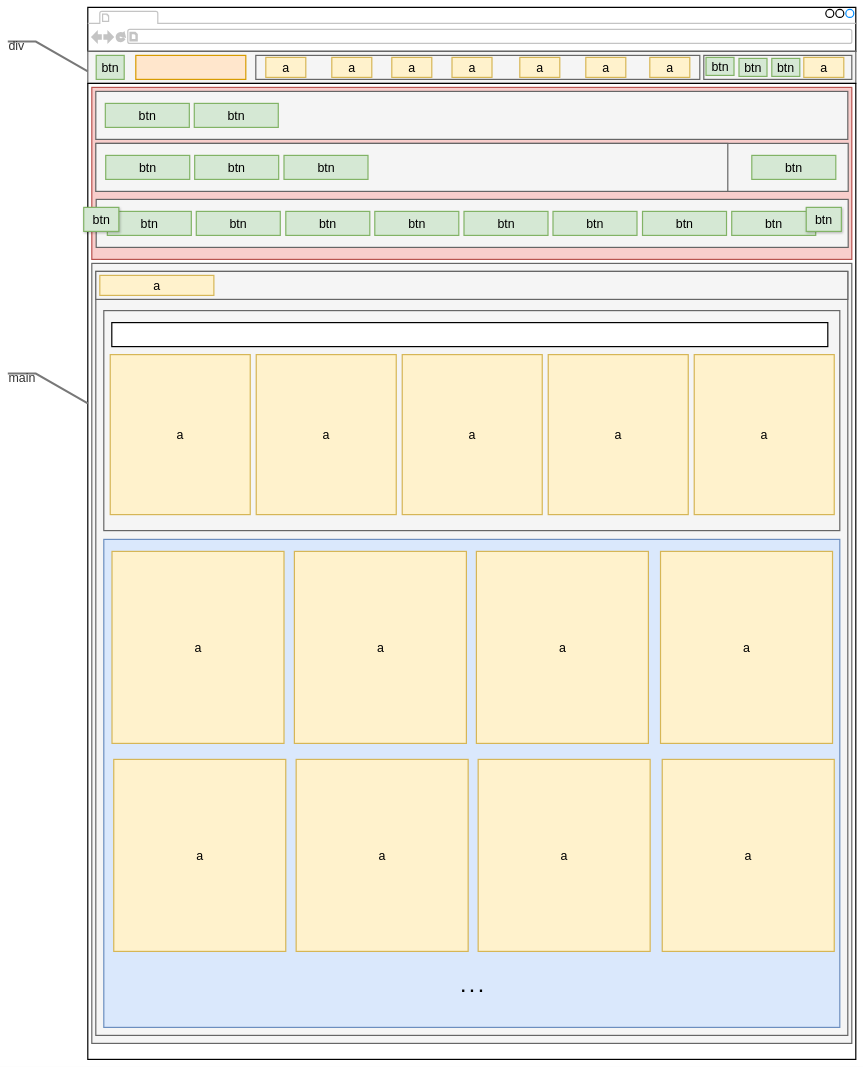
Some shapes in this 863 by 1067 pixel diagram are drawn without their labels. Each missing label, with the centre of its shape:
h3: point (469, 334)
https://www.draw.io: point (189, 36)
logo: point (190, 67)
Page 1: point (133, 17)
